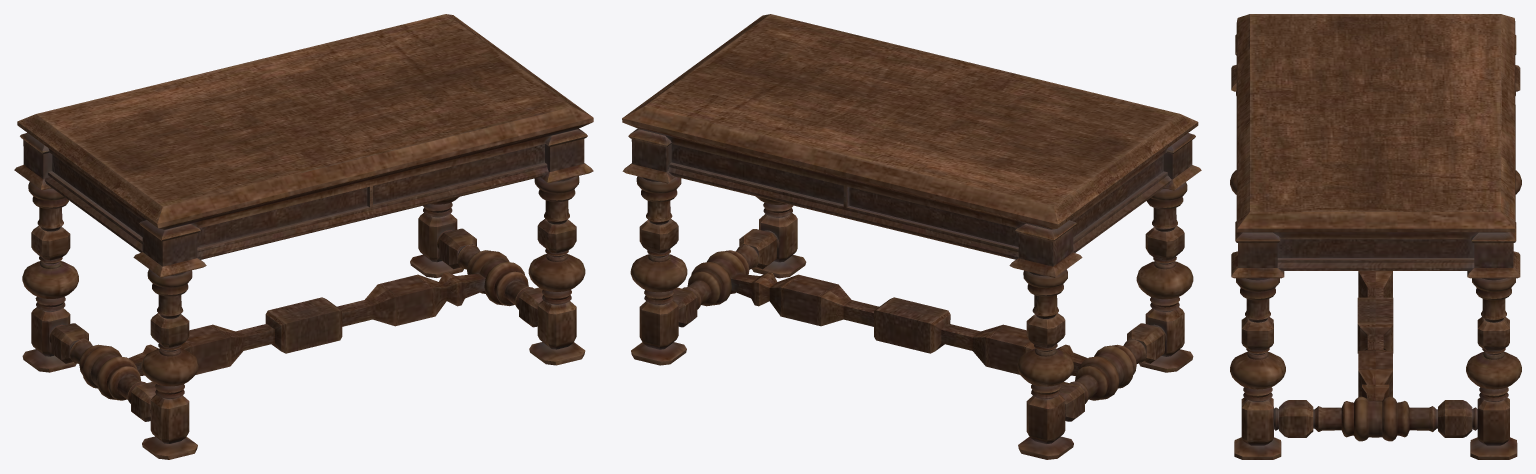
The model's file is desk.glb.
3 views of the same model, side by side, from view 1: azimuth 30°, elevation 25°; view 2: azimuth 150°, elevation 25°; view 3: azimuth 270°, elevation 25° (orthographic).
Visible parts, largest first — view 1: object_0; view 2: object_0; view 3: object_0.
Boxes of the visible parts, x1,y1,x2,y2 form: object_0: (14,14,593,459); object_0: (622,14,1201,459); object_0: (1230,14,1521,459).
Bounding box in the file's own units: 65.02 × 35.03 × 37.93.
1 material, 1 textured.
